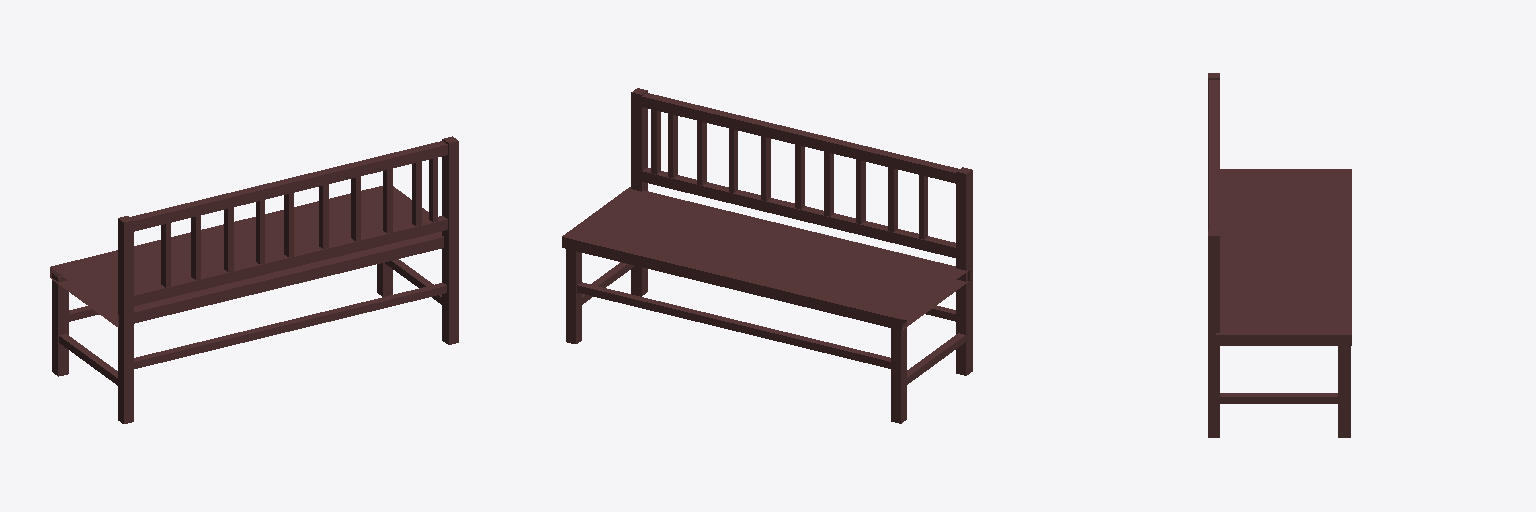
File: chair4.obj
The picture shows the model from 3 angles: view 1: azimuth 30°, elevation 25°; view 2: azimuth 150°, elevation 25°; view 3: azimuth 270°, elevation 25°; orthographic projection.
Visible parts, largest first — view 1: chair4; view 2: chair4; view 3: chair4.
Part boxes in pixels (left/top/right/bottom): chair4: left=50, top=136, right=458, bottom=423; chair4: left=562, top=88, right=972, bottom=423; chair4: left=1208, top=73, right=1351, bottom=437.
Size of the model in its own units: 1.58 by 0.8966 by 0.5827.